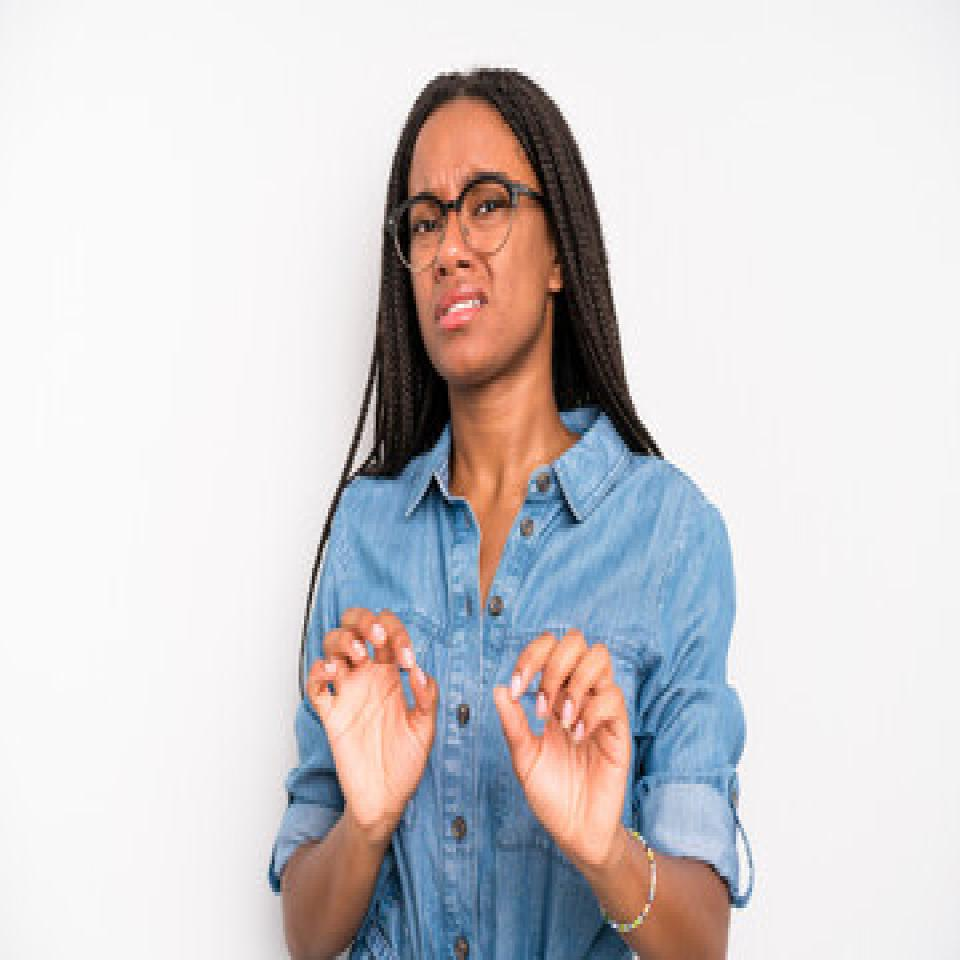Disgust: (405, 104, 550, 387)
